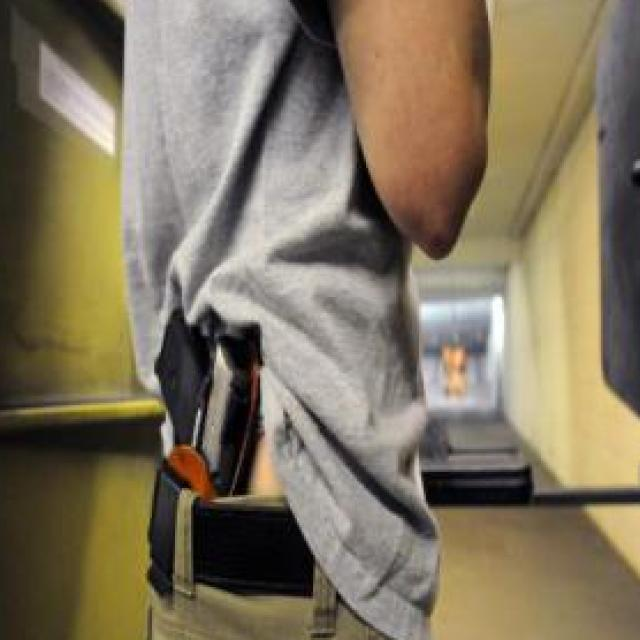pistol: (142, 311, 255, 510)
